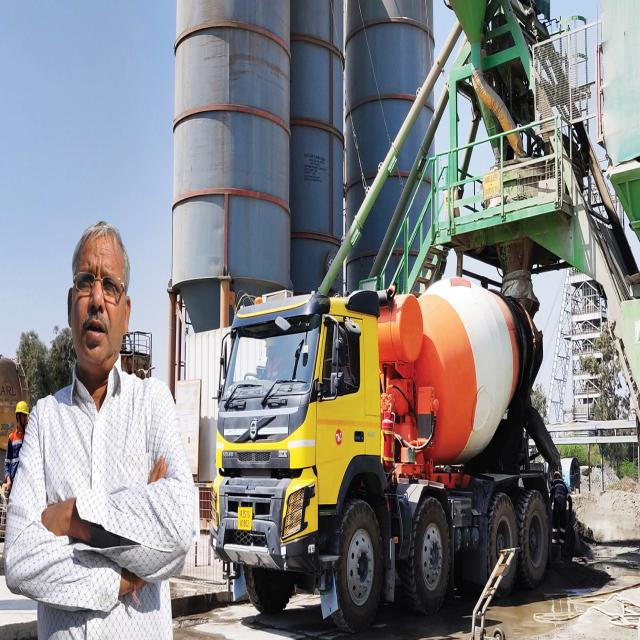truck: (211, 277, 560, 633)
